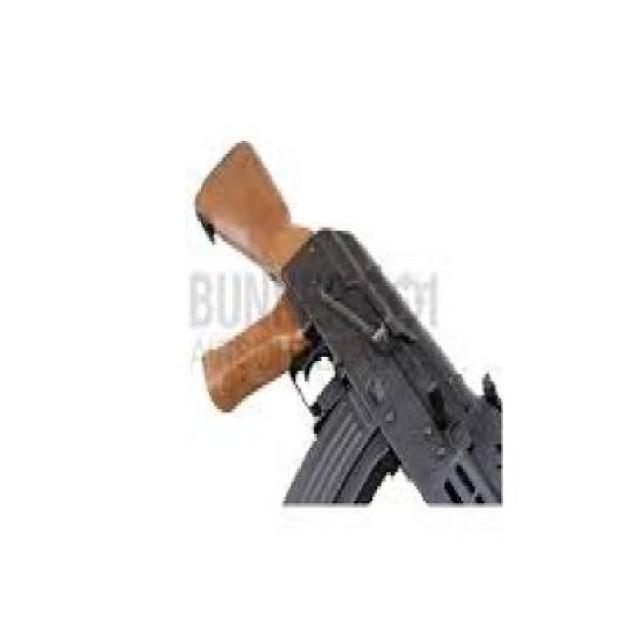weapon: (170, 122, 503, 512)
